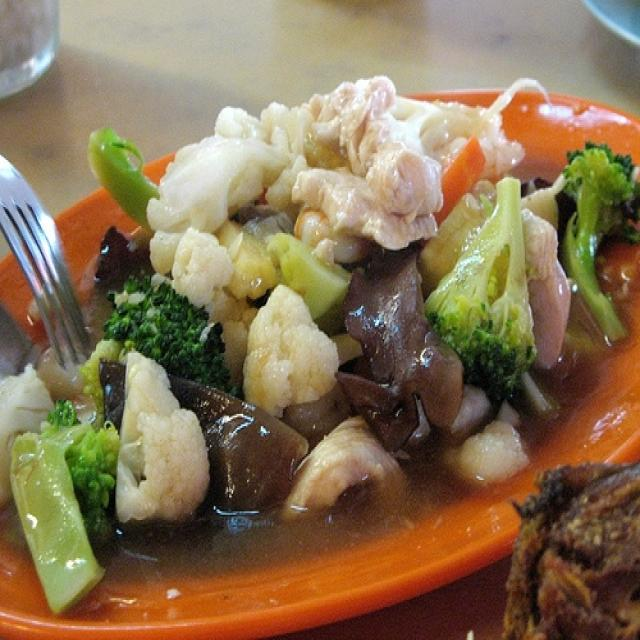蔬菜料理: (13, 37, 623, 605)
